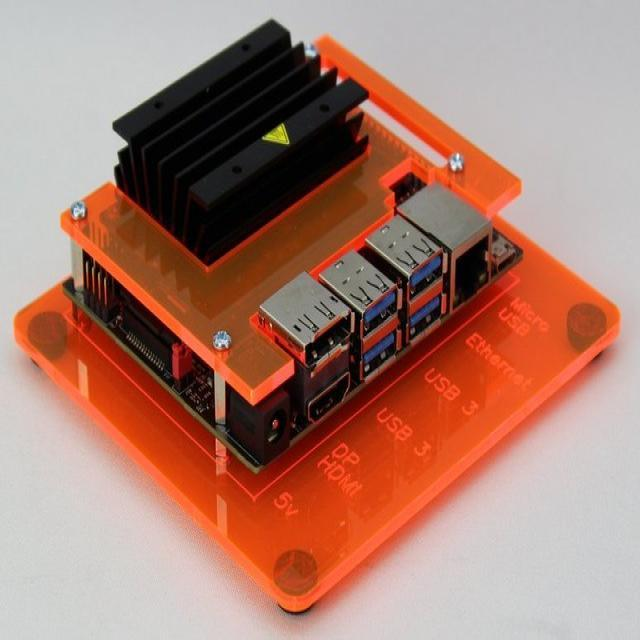Jetson Nano: (59, 17, 527, 474)
